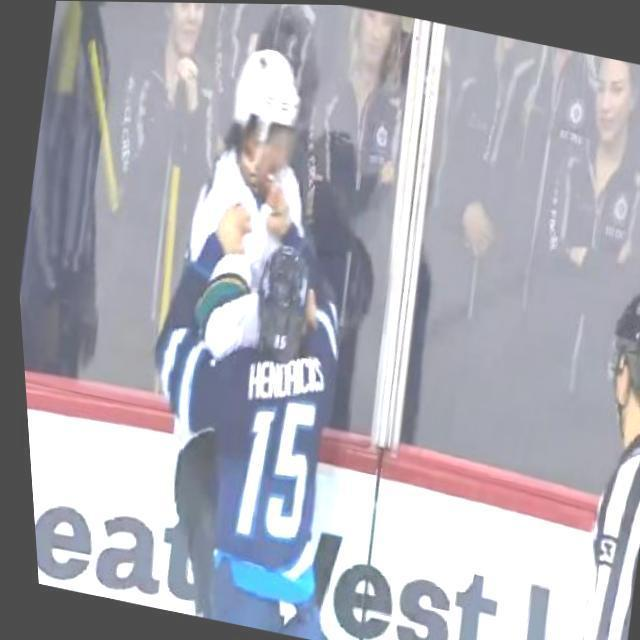fight: (77, 25, 434, 640)
